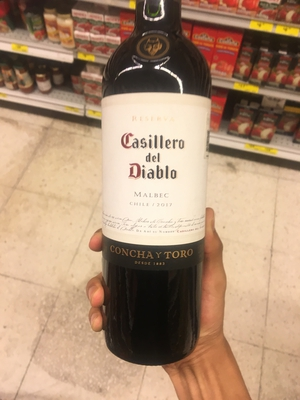casillero del diablo malbec: (93, 14, 235, 386)
